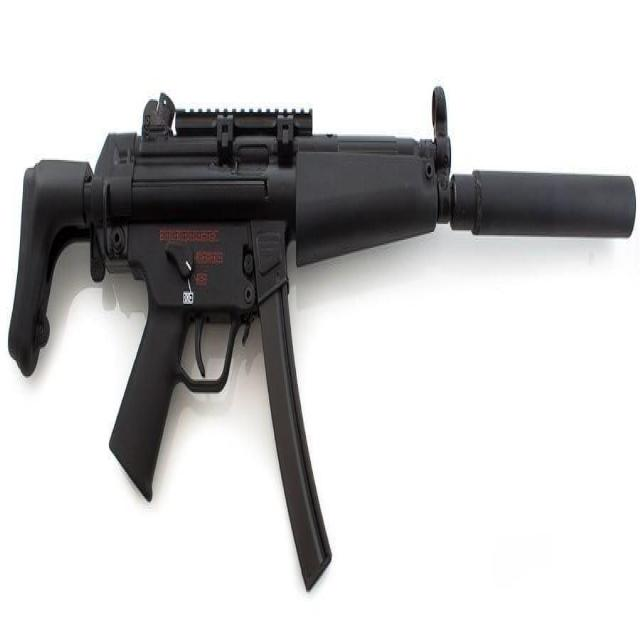SMG: (7, 86, 639, 594)
